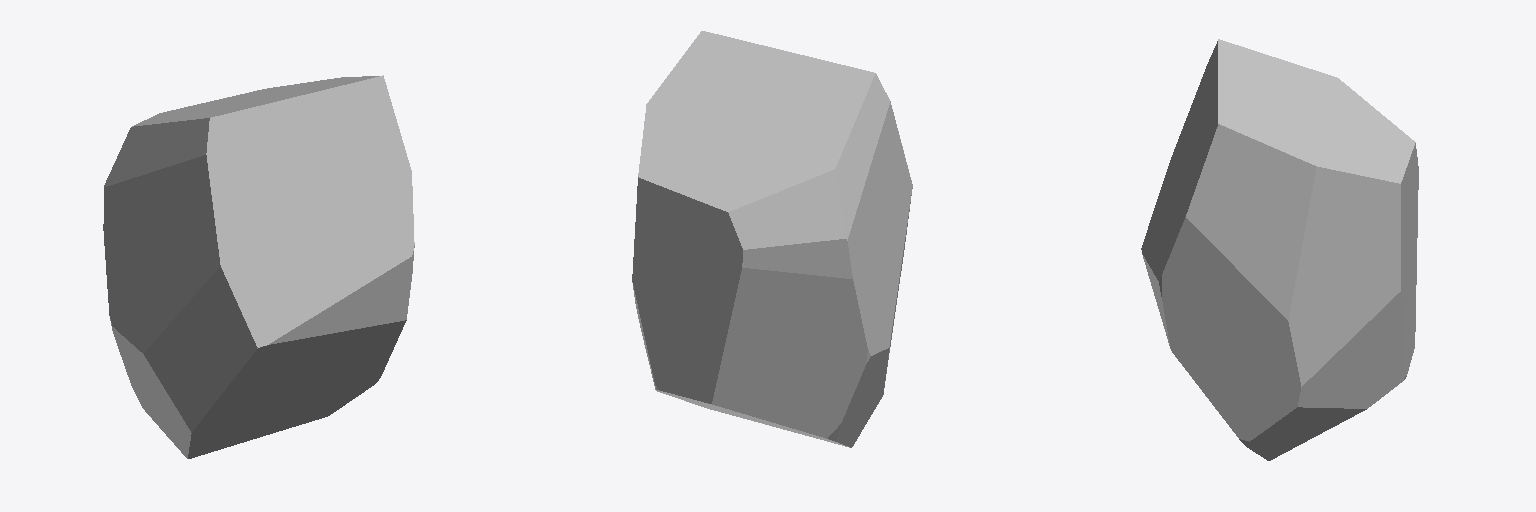
The model's file is Rock1.obj.
3 renders of one model, left to right at view 1: azimuth 30°, elevation 25°; view 2: azimuth 150°, elevation 25°; view 3: azimuth 270°, elevation 25°, orthographic.
Parts seen in each view (by area): view 1: Rock_Sphere; view 2: Rock_Sphere; view 3: Rock_Sphere.
Boxes of the visible parts, x1,y1,x2,y2 form: Rock_Sphere: [103, 75, 414, 458]; Rock_Sphere: [632, 31, 912, 447]; Rock_Sphere: [1141, 39, 1418, 460].
Size of the model in its own units: 1.77 by 2.46 by 1.72.